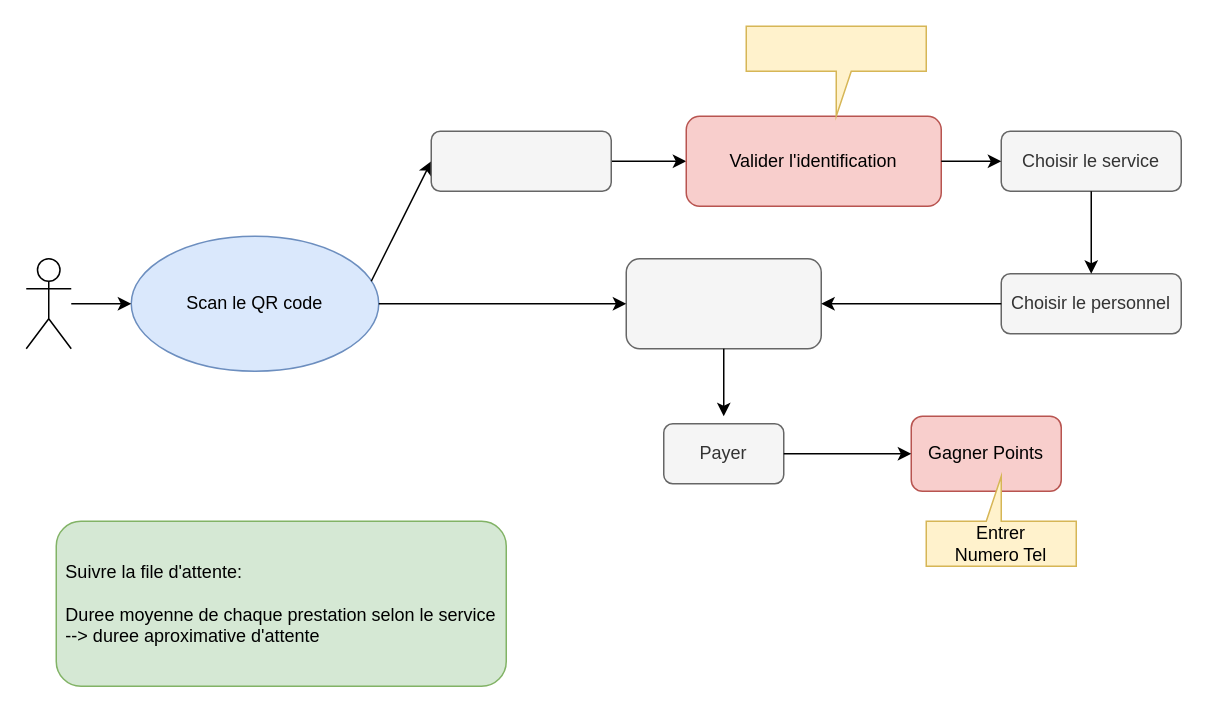
Image size: 1208x713. Some labels were removed from this diagram. Each missing label, with the centre of its shape:
"Client" belongs at (x=48, y=303).
"Entrer le nom/Pseudo + Prendre Photo temp" belongs at (x=835, y=70).
"Reserver" belongs at (x=520, y=160).
"Suivre la file d'attente" belongs at (x=723, y=303).
